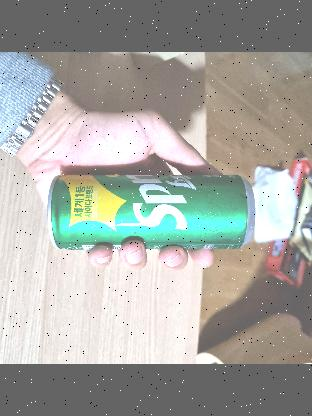Can: (47, 176, 255, 254)
